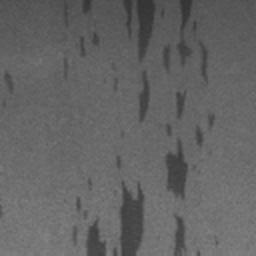Red iron sheet: (122, 0, 209, 122), (70, 179, 145, 256), (165, 90, 215, 200), (63, 32, 101, 78), (173, 214, 186, 256), (4, 70, 14, 93), (81, 0, 92, 14), (113, 77, 119, 91), (116, 155, 122, 168)
